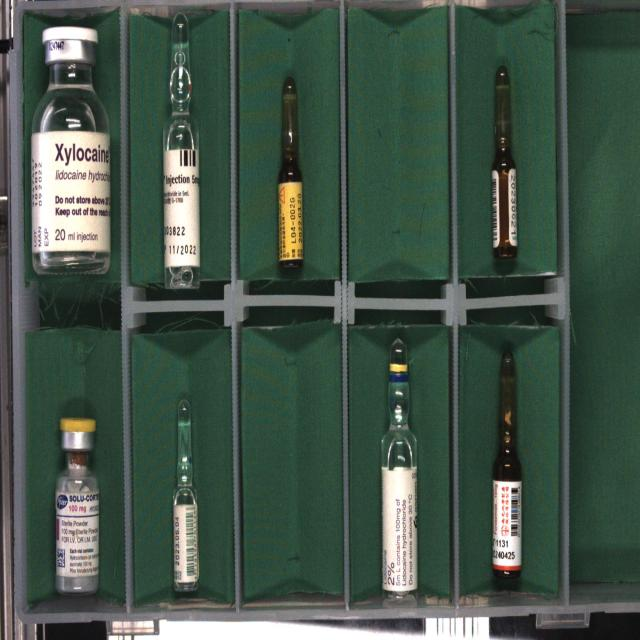Vials: (31, 27, 110, 274), (56, 418, 99, 593)
